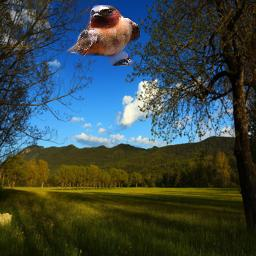Swallow: (67, 5, 140, 66)
